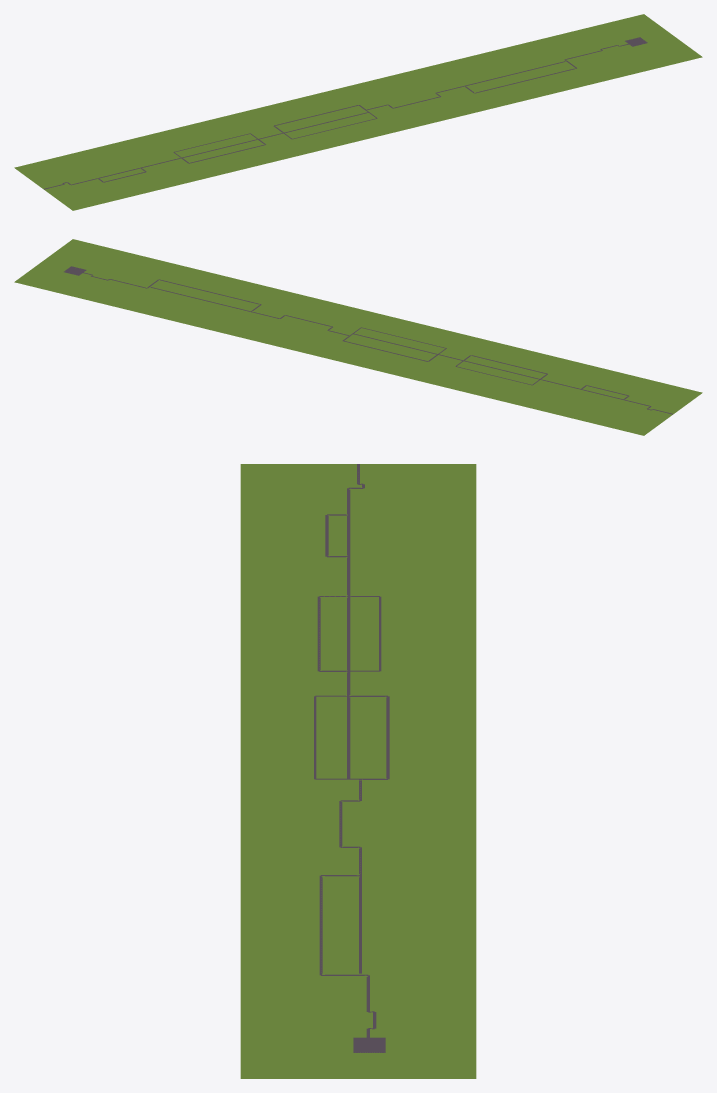
The model's file is D-CURE.horizon.glb.
3 renders of one model, top to bottom at view 1: azimuth 30°, elevation 25°; view 2: azimuth 150°, elevation 25°; view 3: azimuth 270°, elevation 25°, orthographic. The views are drawn at different scales.
Visible parts, largest first — view 1: horizon-ground, cure-0-1; view 2: horizon-ground, cure-0-1; view 3: horizon-ground, cure-0-1.
Boxes of the visible parts, x1,y1,x2,y2 form: horizon-ground: (14, 14, 702, 210); cure-0-1: (43, 37, 647, 189); horizon-ground: (14, 239, 702, 435); cure-0-1: (64, 266, 673, 414); horizon-ground: (240, 464, 476, 1078); cure-0-1: (314, 464, 389, 1052).
Bounding box in the file's own units: 3700 × 0.022 × 600.
